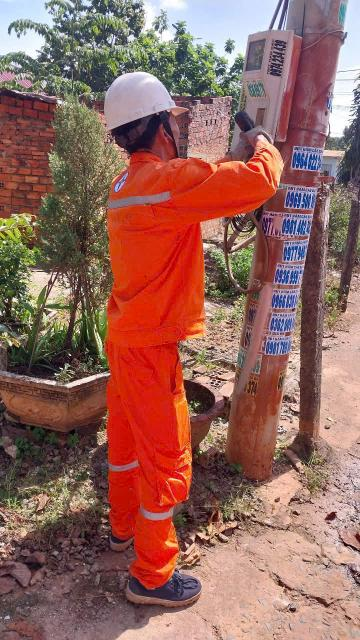gloves: (224, 125, 268, 164), (235, 125, 281, 152)
helmet: (87, 66, 200, 142)
shoes: (116, 554, 213, 612), (98, 517, 147, 553)
